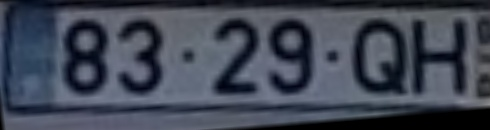2: (209, 16, 264, 101)
3: (116, 18, 167, 100)
8: (59, 17, 113, 101)
9: (266, 17, 319, 102)
H: (409, 18, 473, 100)
Q: (347, 15, 413, 99)
